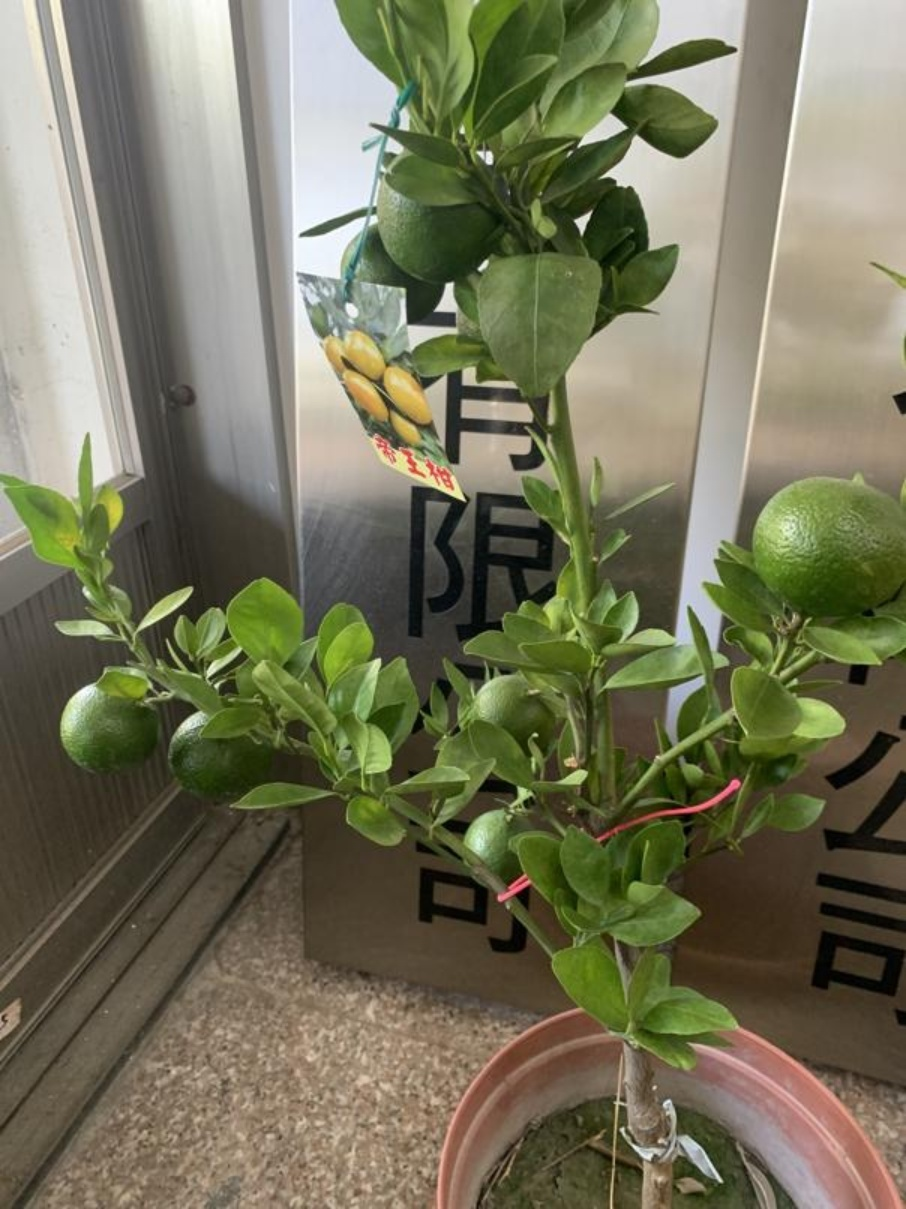Tangerine: (750, 465, 904, 622), (54, 676, 157, 777), (166, 708, 266, 805)
